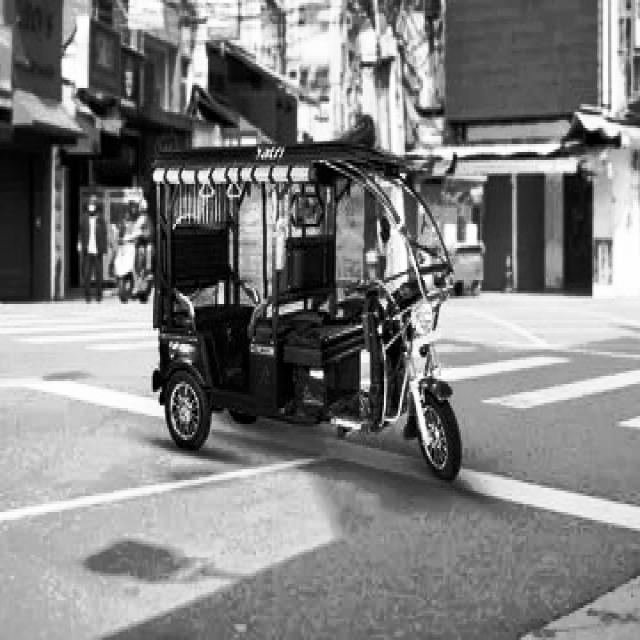Toto: (145, 133, 462, 490)
